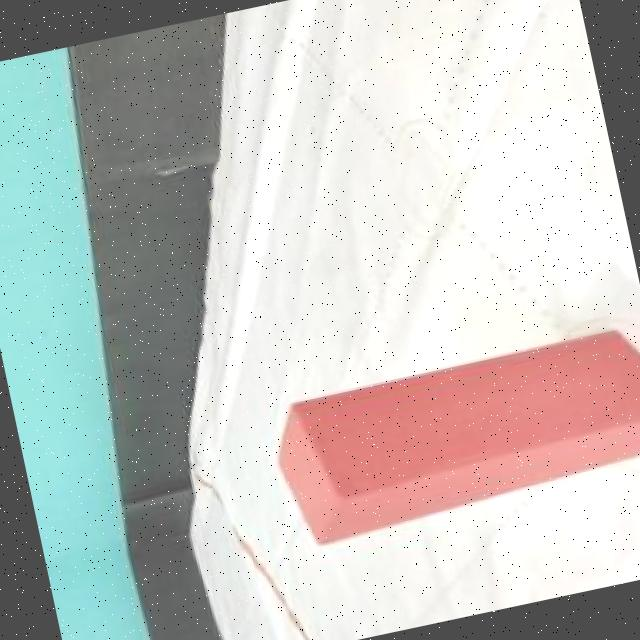redbox: (261, 320, 640, 553)
